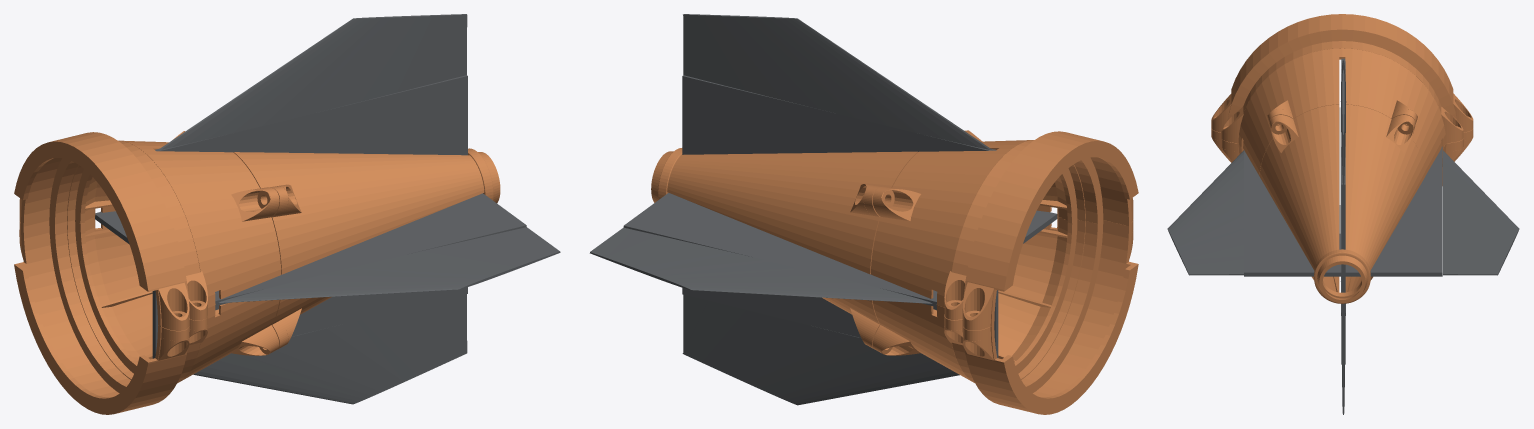
The model's file is rear_assembly.glb.
3 renders of one model, left to right at view 1: azimuth 30°, elevation 25°; view 2: azimuth 150°, elevation 25°; view 3: azimuth 270°, elevation 25°, orthographic. The views are drawn at different scales.
Visible parts, largest first — view 1: Mesh_Mesh_head_geo.001_lambert2SG.001; view 2: Mesh_Mesh_head_geo.001_lambert2SG.001; view 3: Mesh_Mesh_head_geo.001_lambert2SG.001.
Part boxes in pixels (left/top/right/bottom): Mesh_Mesh_head_geo.001_lambert2SG.001: left=14, top=14, right=560, bottom=414; Mesh_Mesh_head_geo.001_lambert2SG.001: left=589, top=14, right=1138, bottom=414; Mesh_Mesh_head_geo.001_lambert2SG.001: left=1167, top=14, right=1519, bottom=414.
Bounding box in the file's own units: 252 × 230 × 230.
